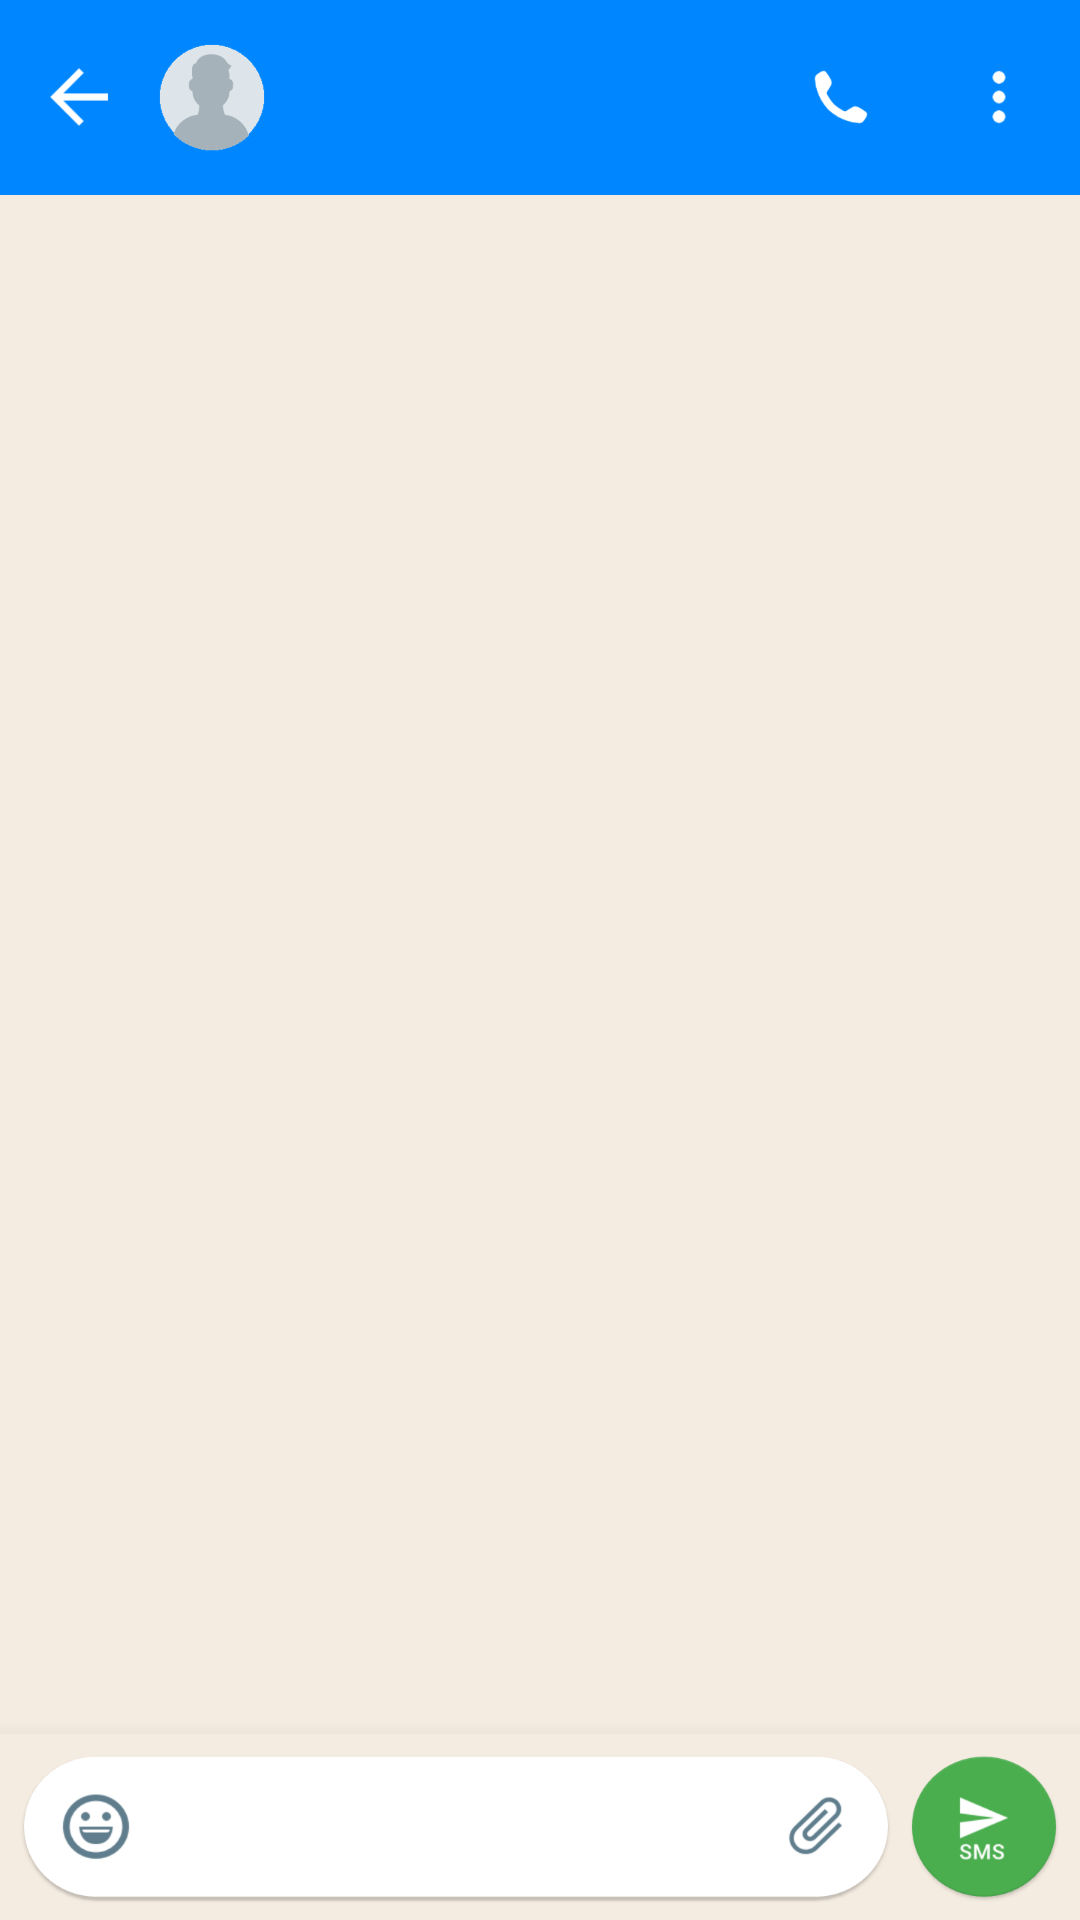

Where to tap for icons on this 1080×1920 app screen, as point (x, y):
activity main head sculpture: point (212, 98)
activity main other: point (999, 97)
activity main phone: point (841, 97)
activity main previous page: point (79, 97)
